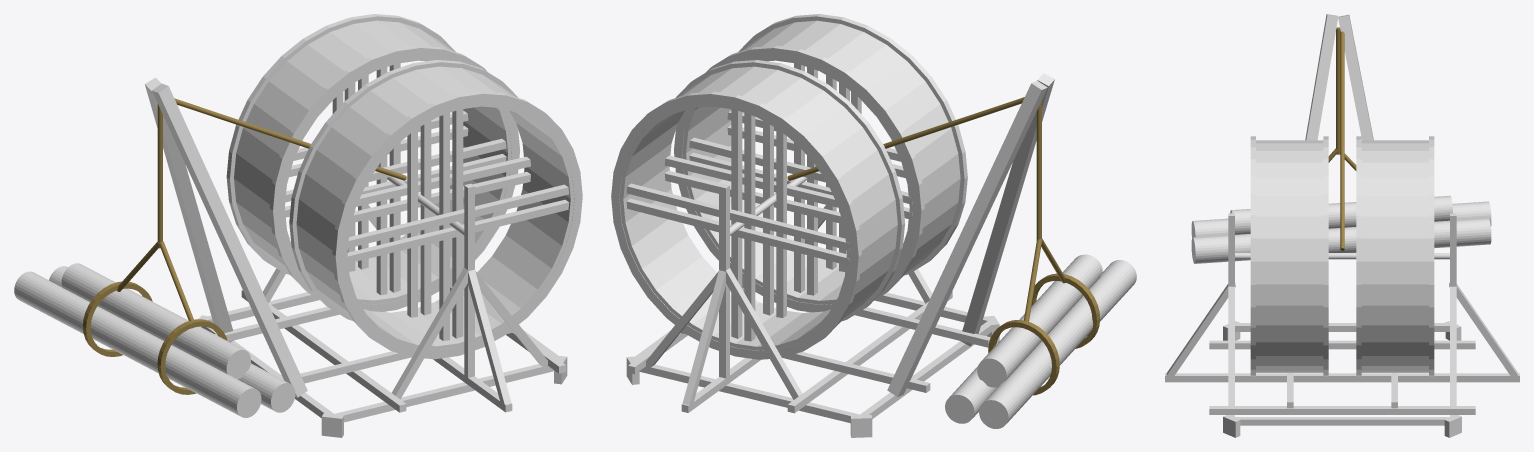
The model's file is bassai.fbx.
3 renders of one model, left to right at view 1: azimuth 30°, elevation 25°; view 2: azimuth 150°, elevation 25°; view 3: azimuth 270°, elevation 25°, orthographic. The views are drawn at different scales.
Parts seen in each view (by area): view 1: ring1, ring2, foundation, log, rope; view 2: ring2, ring1, foundation, log, rope; view 3: ring1, ring2, foundation, log, rope.
Part boxes in pixels (x1,y1,x2,y2): ring1: (289,60,582,359); ring2: (226,14,519,311); foundation: (145,77,567,437); log: (14,263,295,417); rope: (83,98,406,394); ring2: (611,60,904,359); ring1: (674,14,967,312); foundation: (626,73,1054,437); log: (945,254,1136,428); rope: (787,97,1100,395); ring1: (1250,136,1328,376); ring2: (1356,136,1434,376); foundation: (1165,14,1519,437); log: (1191,195,1491,263); rope: (1328,27,1356,250).
Bounding box in the file's own units: 376 × 280 × 320.
5 materials, 1 textured.
